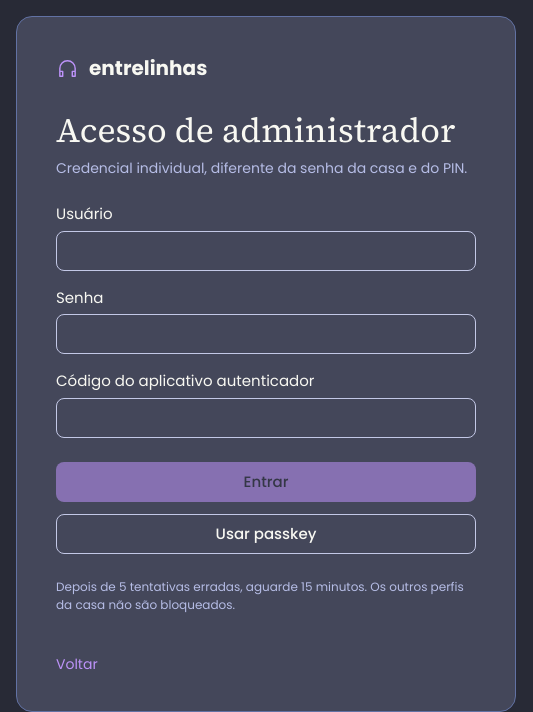
Scenario: rate limit communicates retry-after wait time and that other household profiles are safe
The width and height of the screenshot is (533, 712).
Type "evaldo" into the field labelled "Usuário" at [266, 251], box [56,231,476,271]
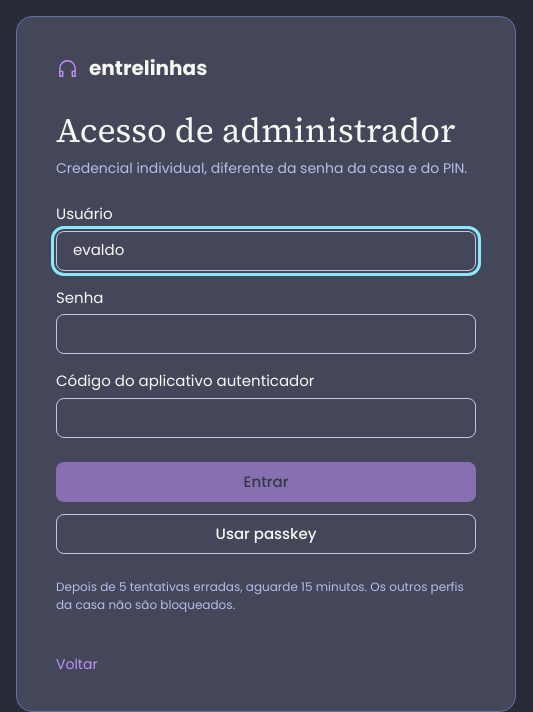
Type "admin-exemplo" into the password field labelled "Senha" at [266, 334], box [56,314,476,354]
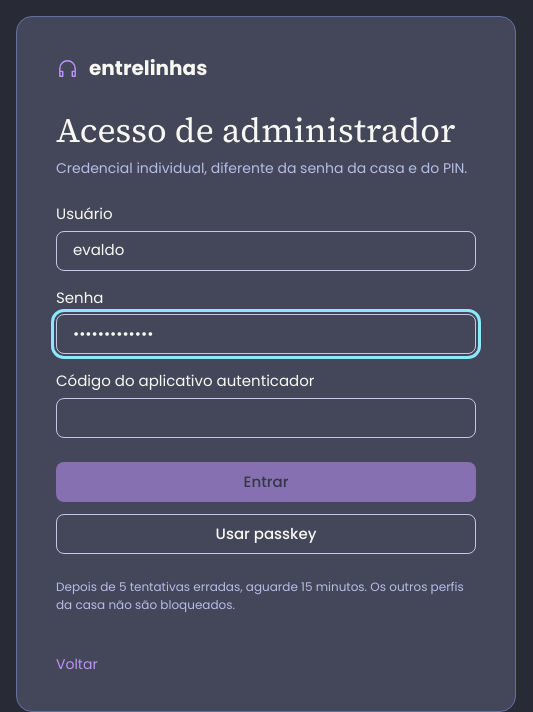
Type "482913" into the field labelled "Código do aplicativo autenticador" at [266, 418], box [56,398,476,438]
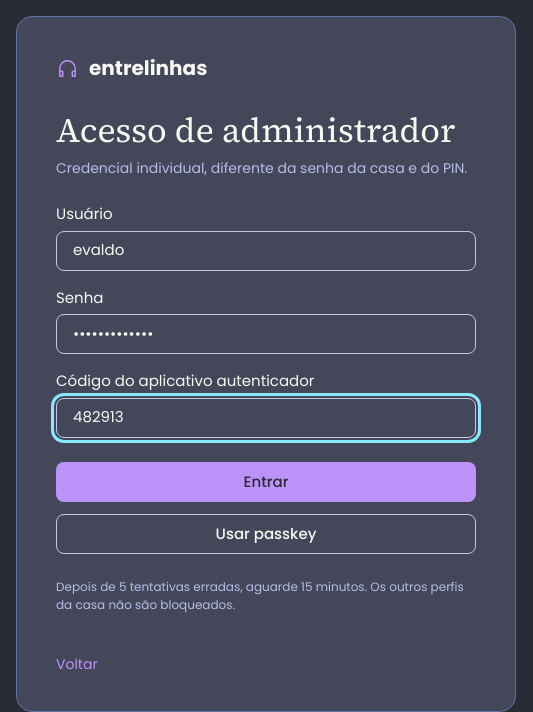
Click the button "Entrar" at [266, 482], box [56,462,476,502]
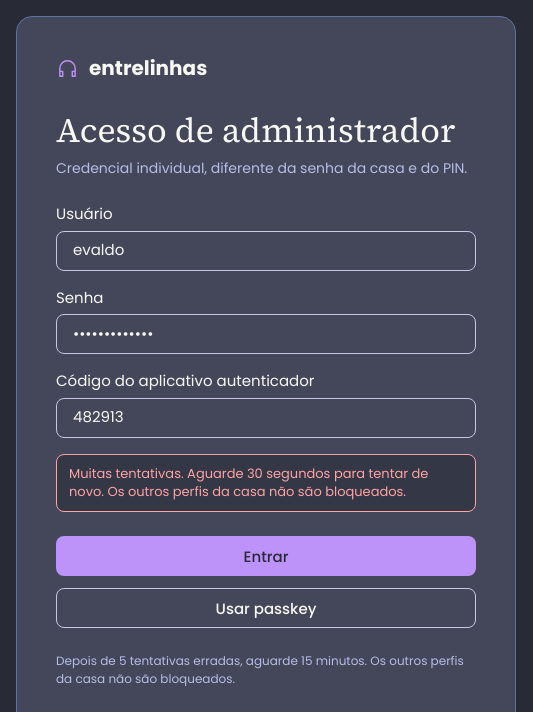
Expected: the message shows "30 segundos", [69,464,428,501]
Expected: the message shows "outros perfis da casa não são bloqueados", [69,464,428,501]
